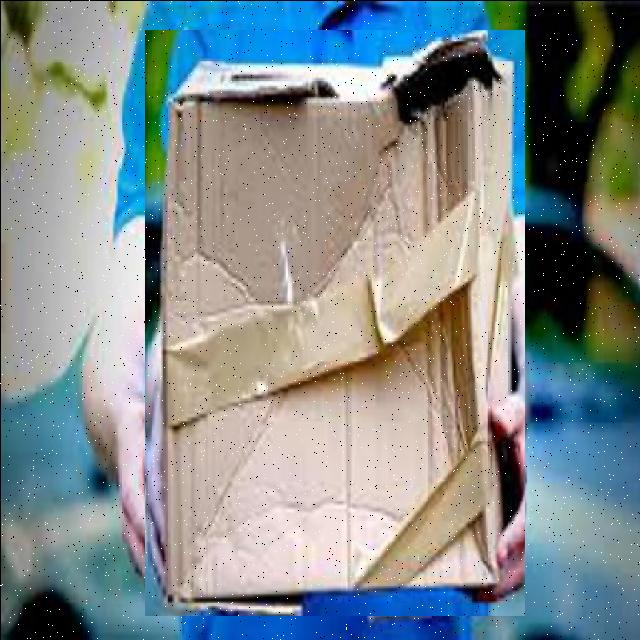defect: (145, 29, 524, 616)
